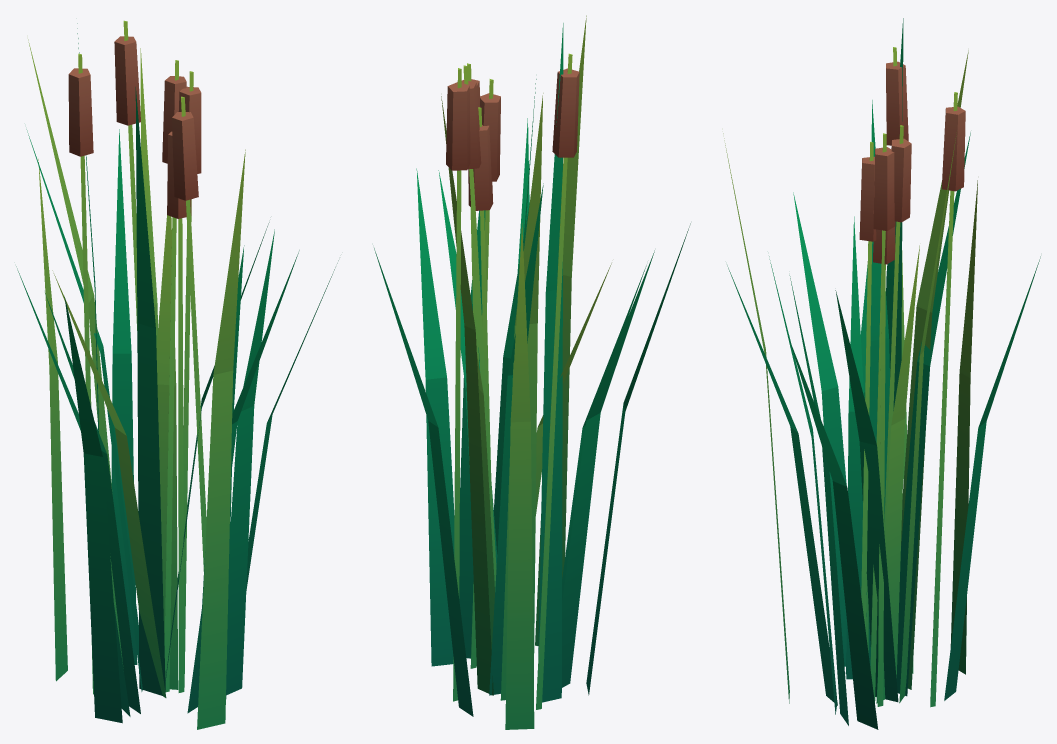
Rendered from reeds_tall.glb.
The picture shows the model from 3 angles, left to right: view 1: azimuth 30°, elevation 25°; view 2: azimuth 150°, elevation 25°; view 3: azimuth 270°, elevation 25°; orthographic projection. The views are drawn at different scales.
Visible parts, largest first — view 1: reeds_tall; view 2: reeds_tall; view 3: reeds_tall.
Boxes of the visible parts, box(x1,y1,x2,y2) form: reeds_tall: box(16, 20, 338, 729); reeds_tall: box(374, 15, 690, 729); reeds_tall: box(723, 18, 1040, 729).
Size of the model in its own units: 1.27 by 2.94 by 1.32.
1 material, 1 textured.
